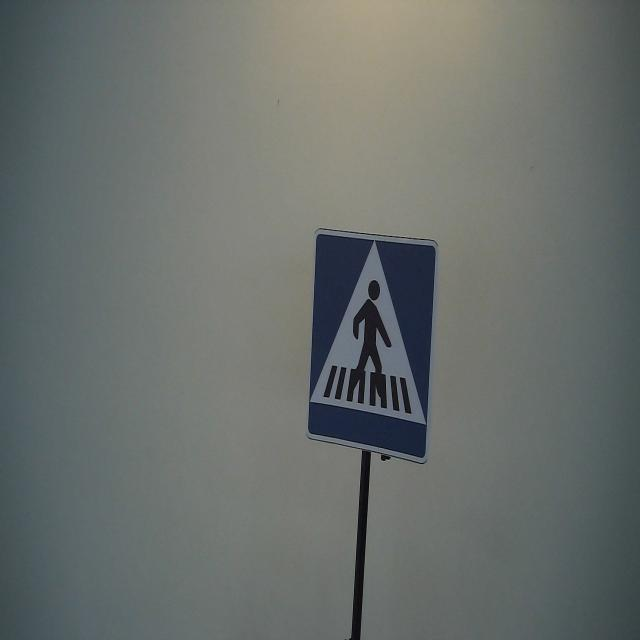crosswalk_sign: (304, 225, 442, 468)
